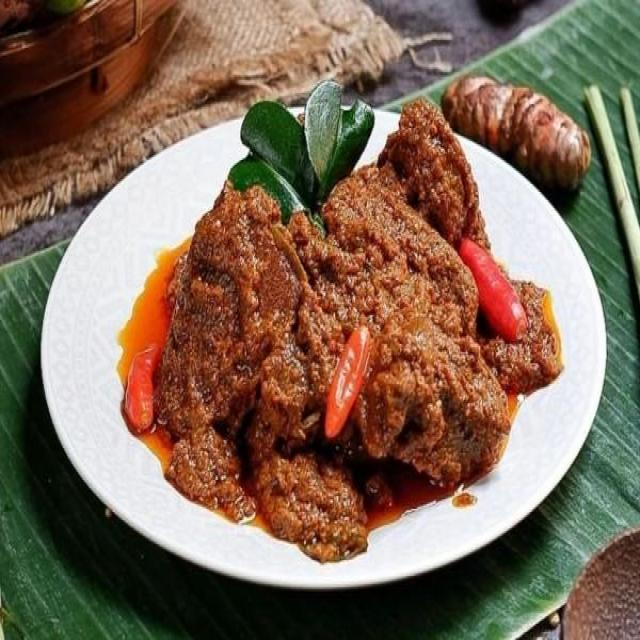Rendang: (151, 94, 520, 571)
